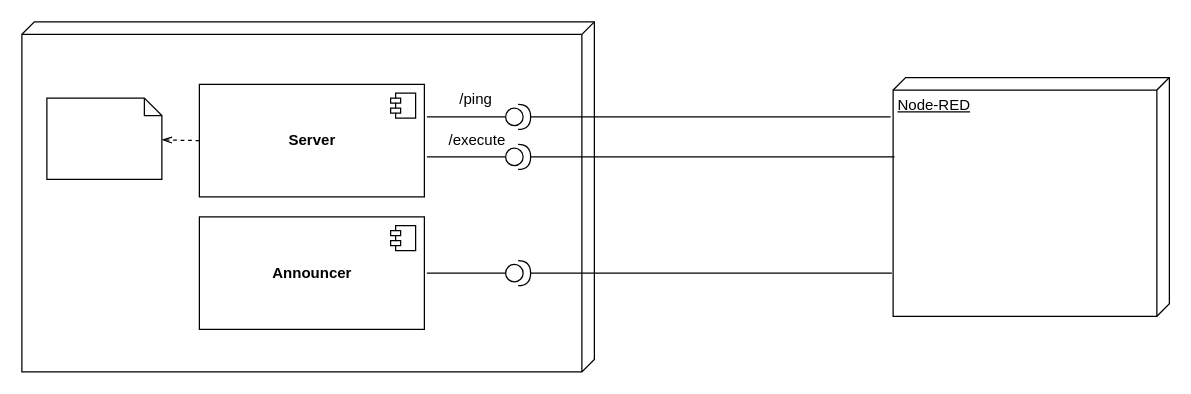
Image size: 1191x394. Some labels were removed from this diagram. The box of each missing label's shape, as (x1, y1, x2, y2) in pixels:
Firmware: (21, 21, 594, 372)
script.py: (46, 97, 162, 179)
